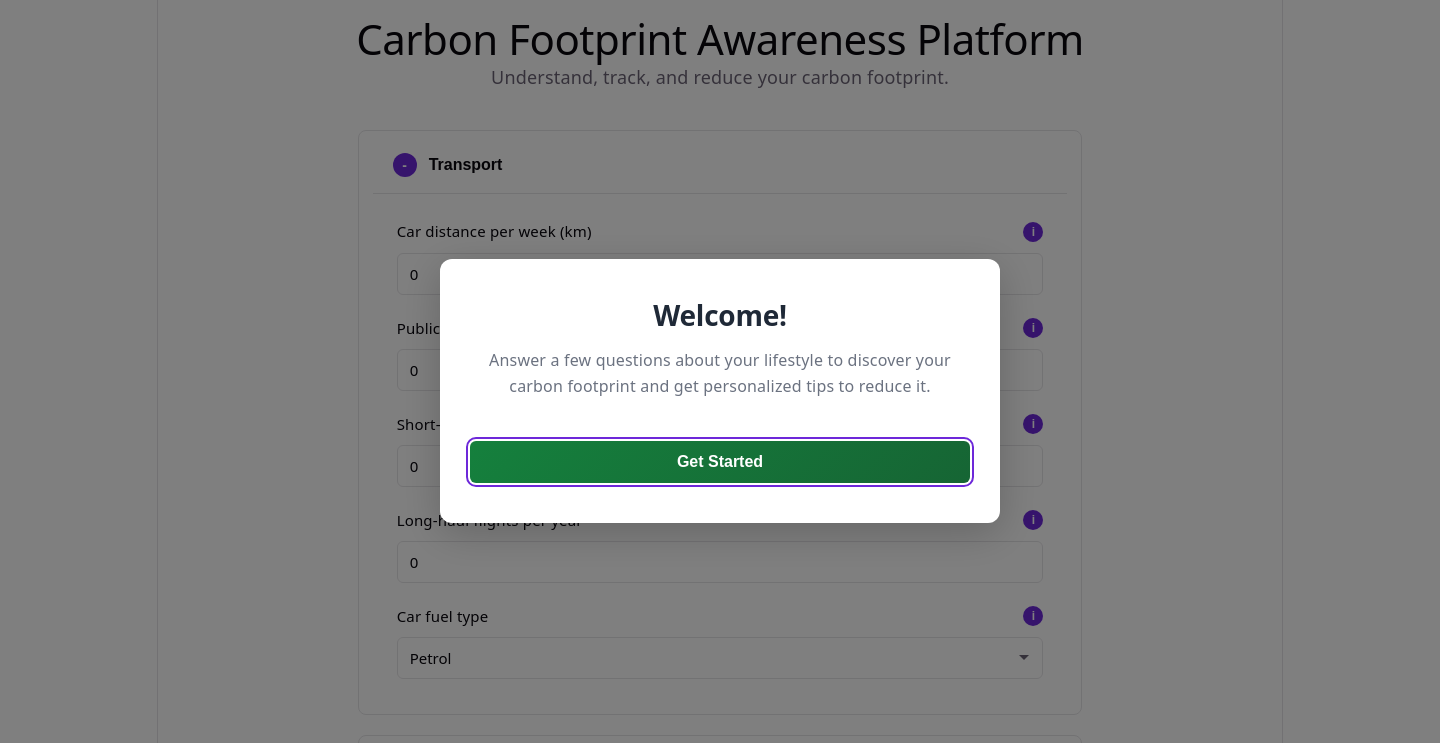
Test: App behavior coverage › shows an error when saving history fails
The image size is (1440, 743).
Click the button "Get Started" at {"x": 720, "y": 462}, box [470,441,970,483]
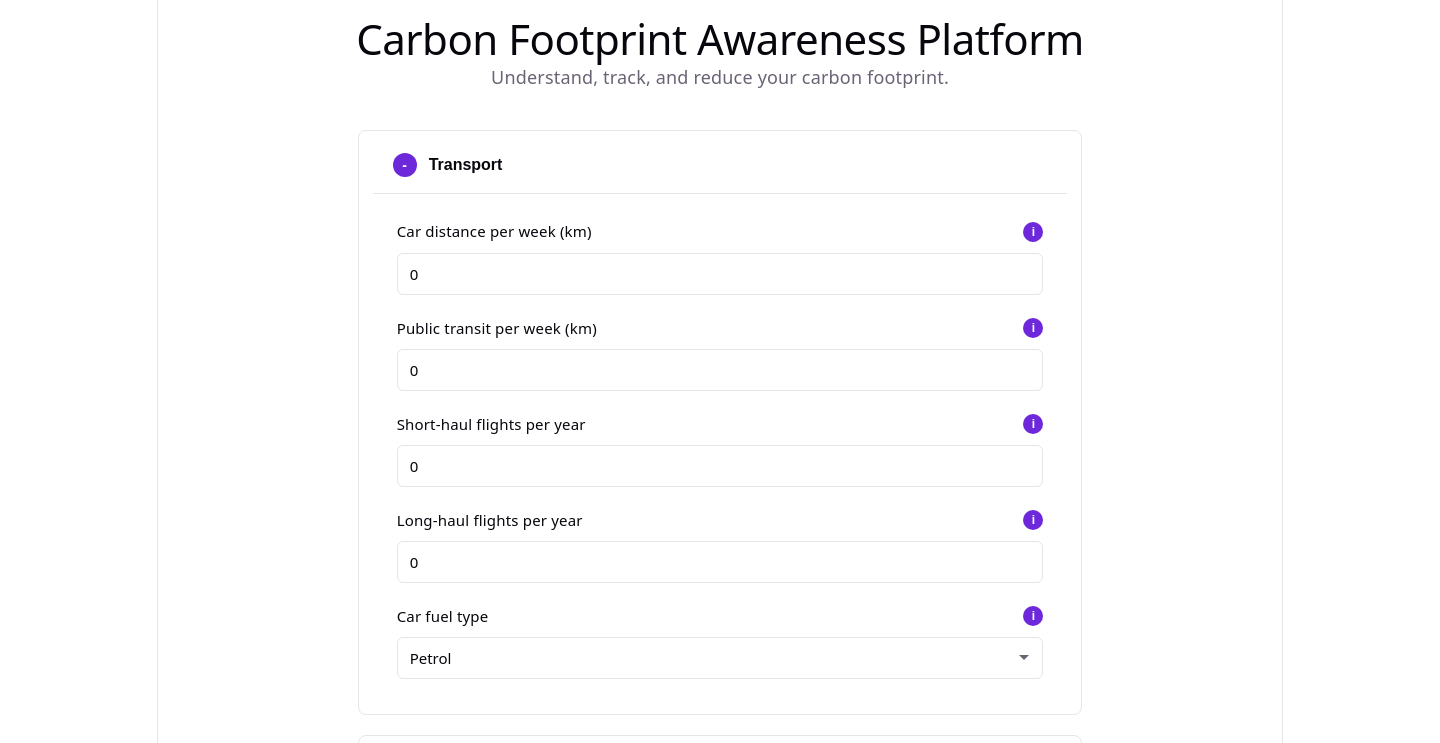
Replace the text in the number field labelled "Car distance per week (km)" with "50" at {"x": 720, "y": 274}, box [397,253,1043,295]
(page scrolled)
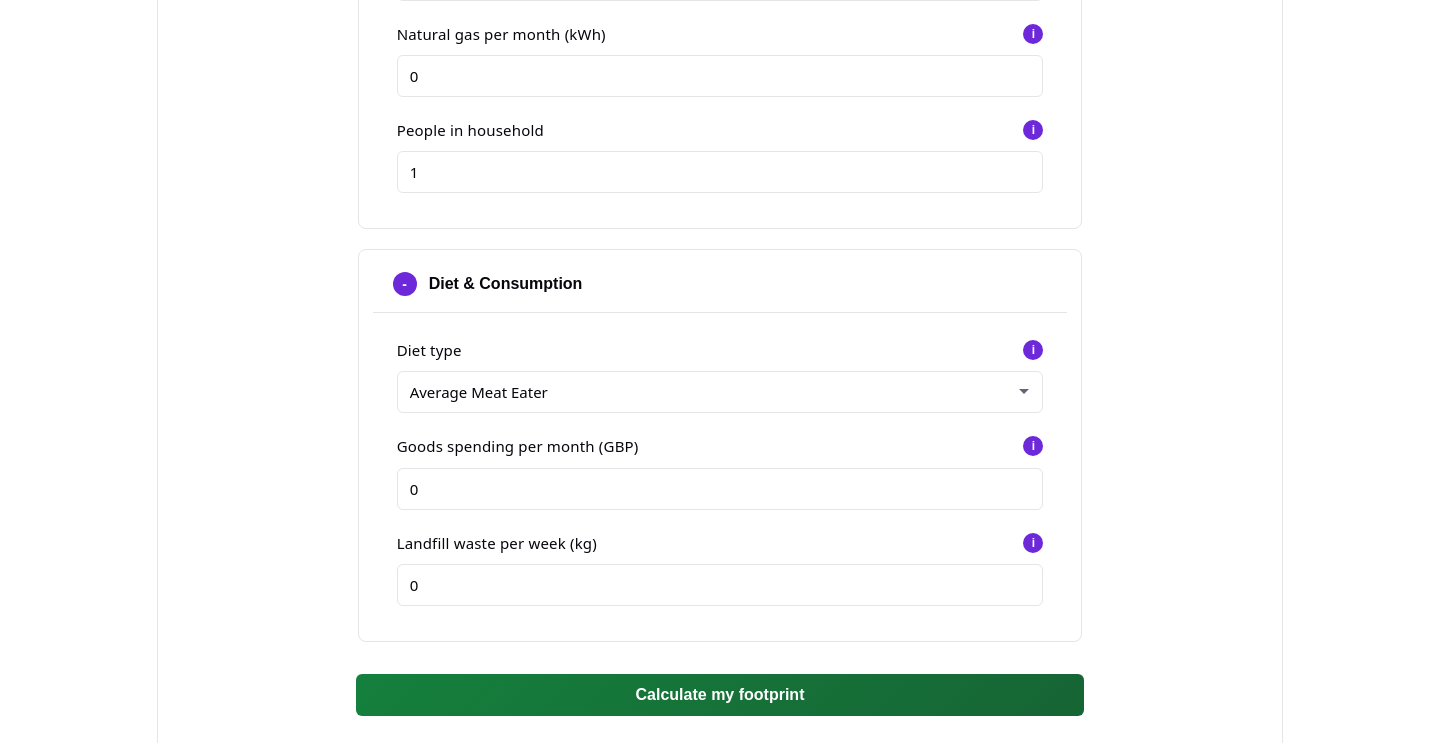
Click the button with aria-label "Calculate my carbon footprint" at {"x": 720, "y": 695}, box [356,674,1084,716]
(page scrolled)
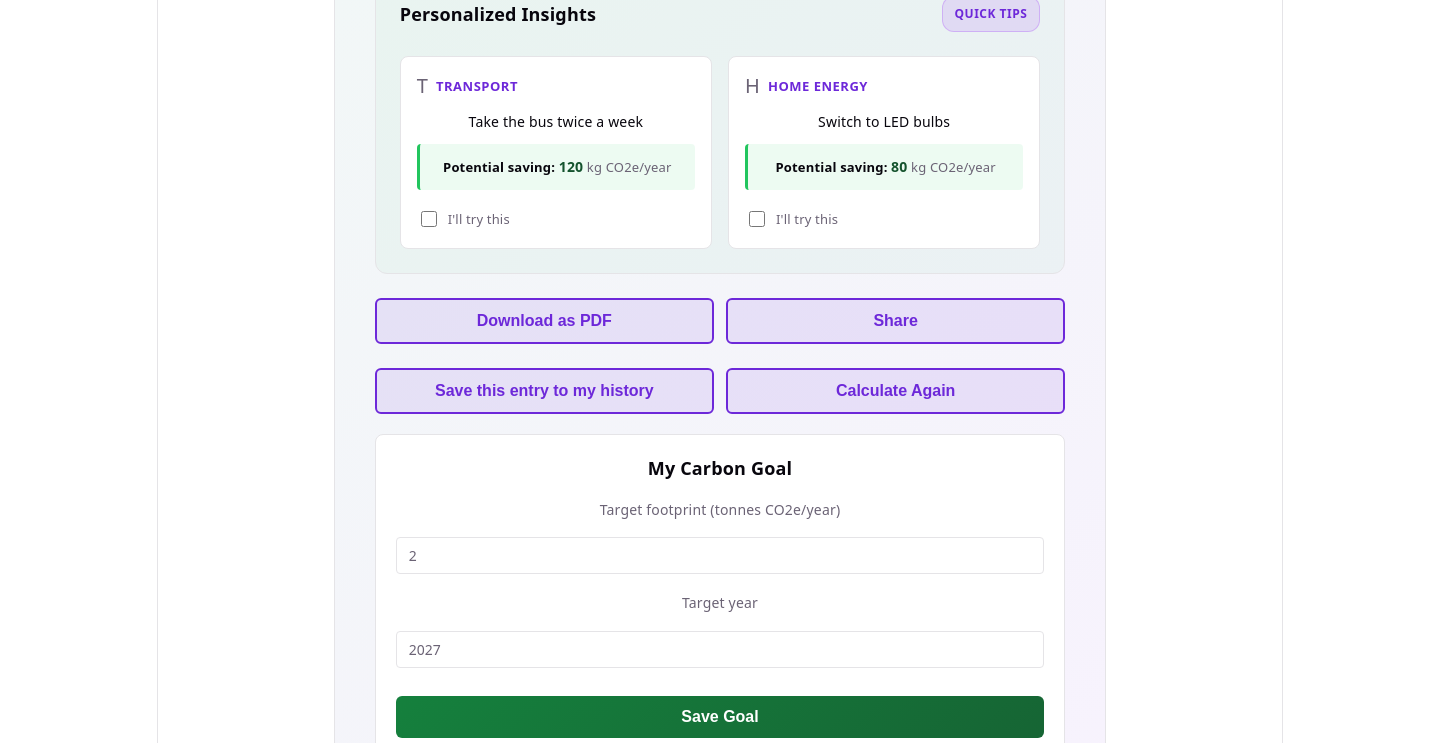
Click the button with aria-label "Save this entry to history" at {"x": 544, "y": 391}, box [375,368,714,414]
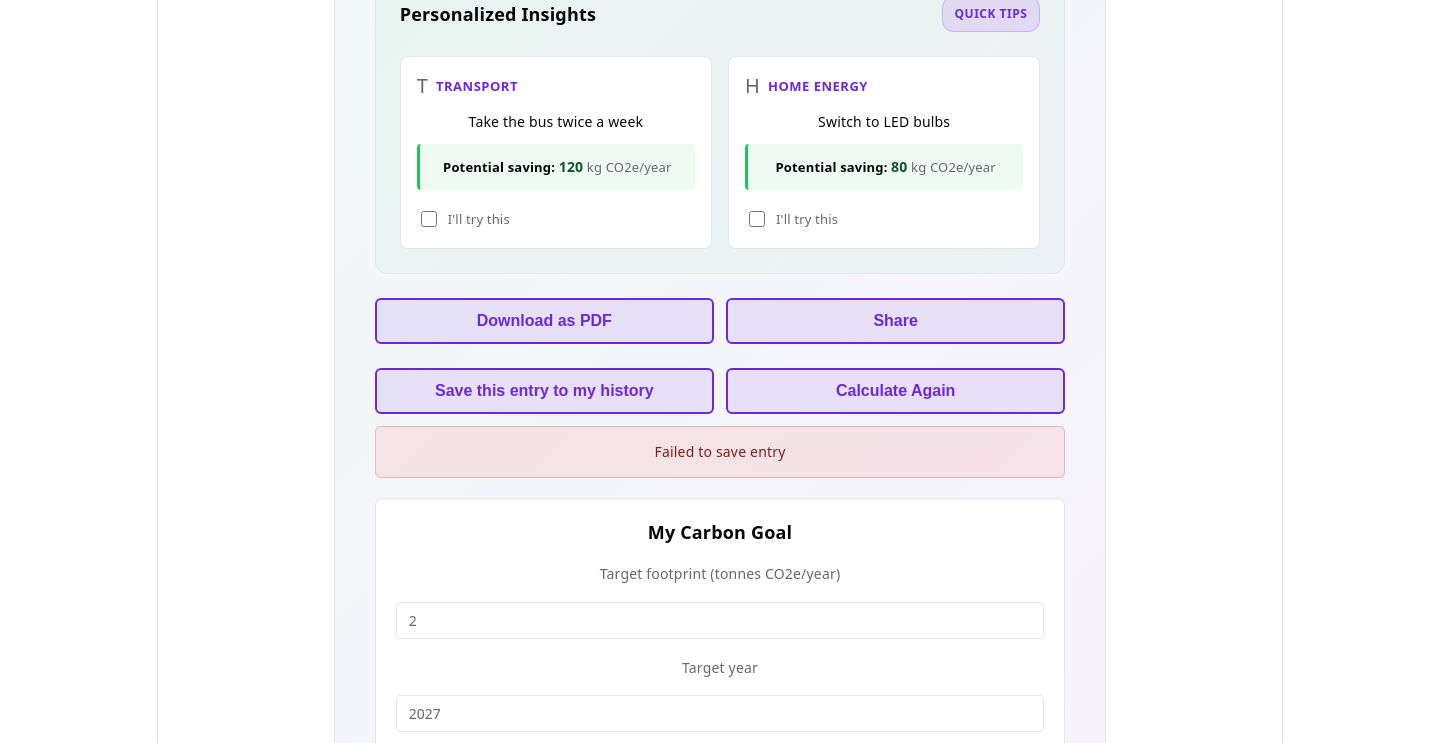
expect the text "Failed to save entry" is shown: met, box [375,426,1065,478]
